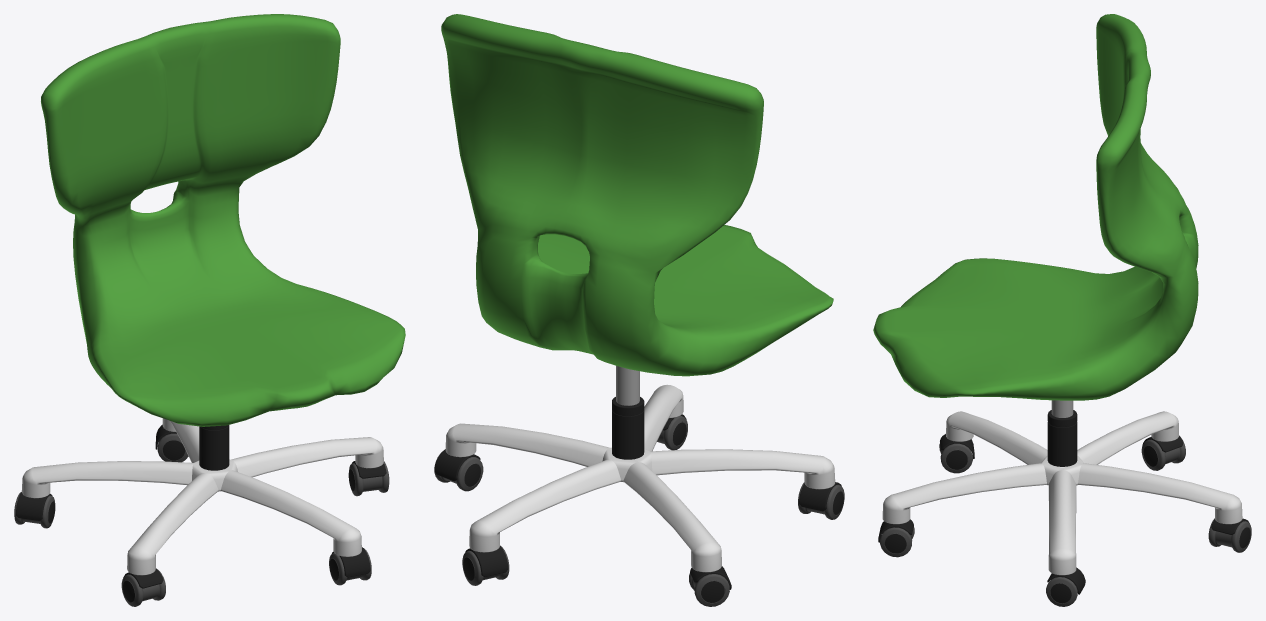
The model's file is gog_chair-green_mesh.fbx.
3 renders of one model, left to right at view 1: azimuth 30°, elevation 25°; view 2: azimuth 150°, elevation 25°; view 3: azimuth 270°, elevation 25°, orthographic. The views are drawn at different scales.
Visible parts, largest first — view 1: pCylinder25; view 2: pCylinder25; view 3: pCylinder25.
Boxes of the visible parts, x1,y1,x2,y2 form: pCylinder25: (14,14,405,606); pCylinder25: (434,14,844,606); pCylinder25: (873,14,1251,606).
Size of the model in its own units: 56.62 by 80.06 by 59.39.
